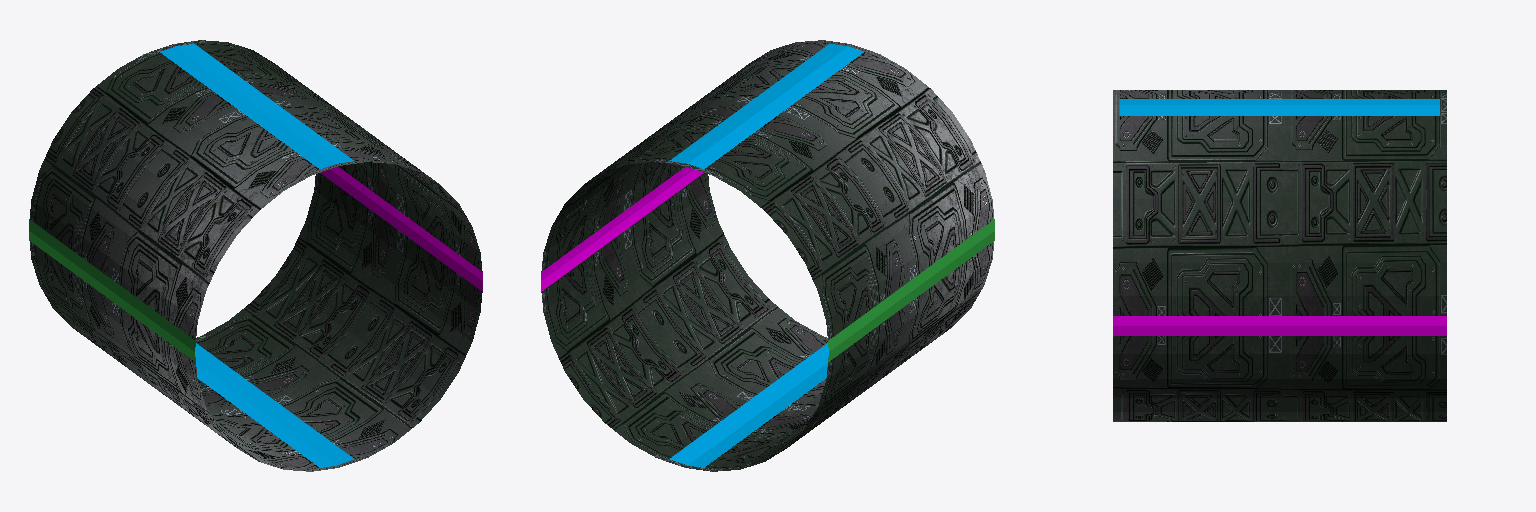
3 renders of one model, left to right at view 1: azimuth 30°, elevation 25°; view 2: azimuth 150°, elevation 25°; view 3: azimuth 270°, elevation 25°, orthographic.
Parts seen in each view (by area): view 1: Cylinder.001; view 2: Cylinder.001; view 3: Cylinder.001.
Boxes of the visible parts, x1,y1,x2,y2 form: Cylinder.001: [29, 40, 482, 471]; Cylinder.001: [541, 40, 994, 471]; Cylinder.001: [1113, 90, 1446, 421].
Bounding box in the file's own units: 40 × 40 × 40.
Materials: 1 (1 with a texture image).